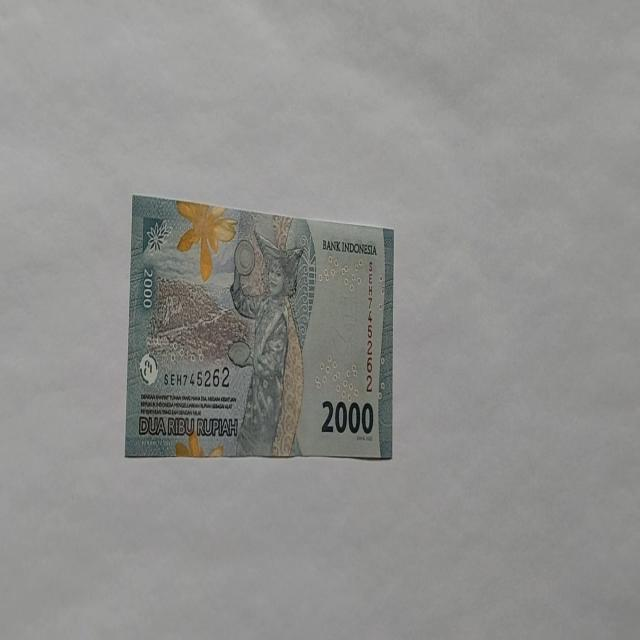dua ribu rupiah: (123, 194, 394, 460), (227, 230, 305, 457), (175, 198, 238, 282)
